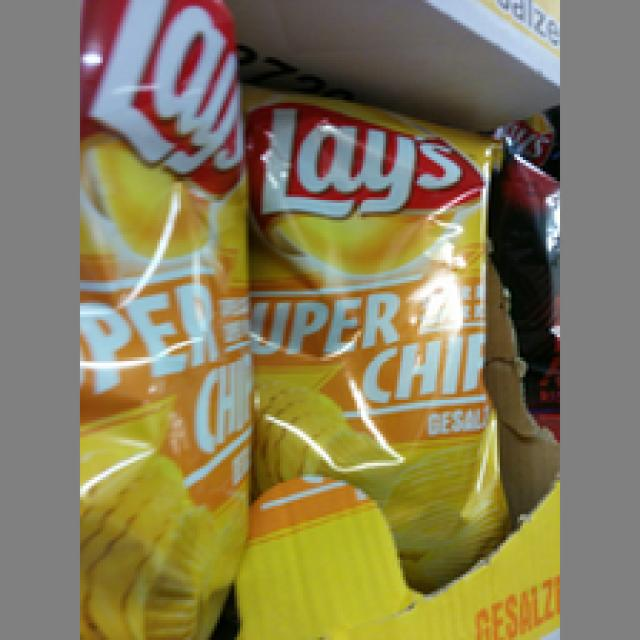groceries: (240, 77, 520, 586), (74, 0, 245, 634)
